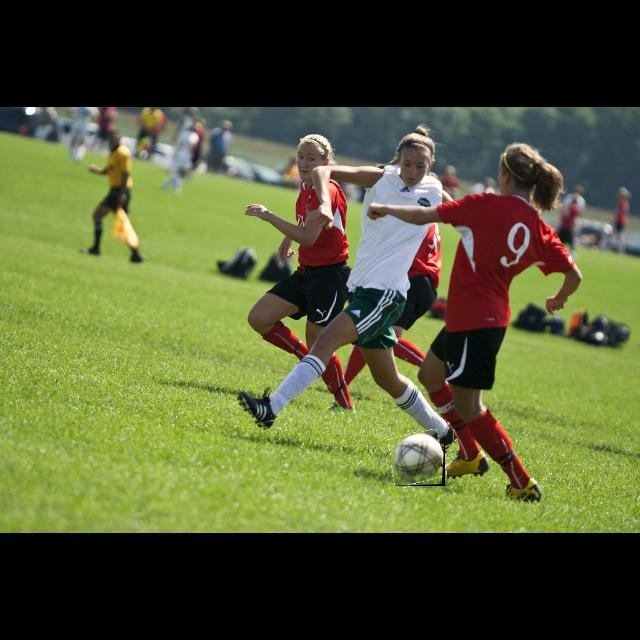Football: (391, 432, 445, 486)
